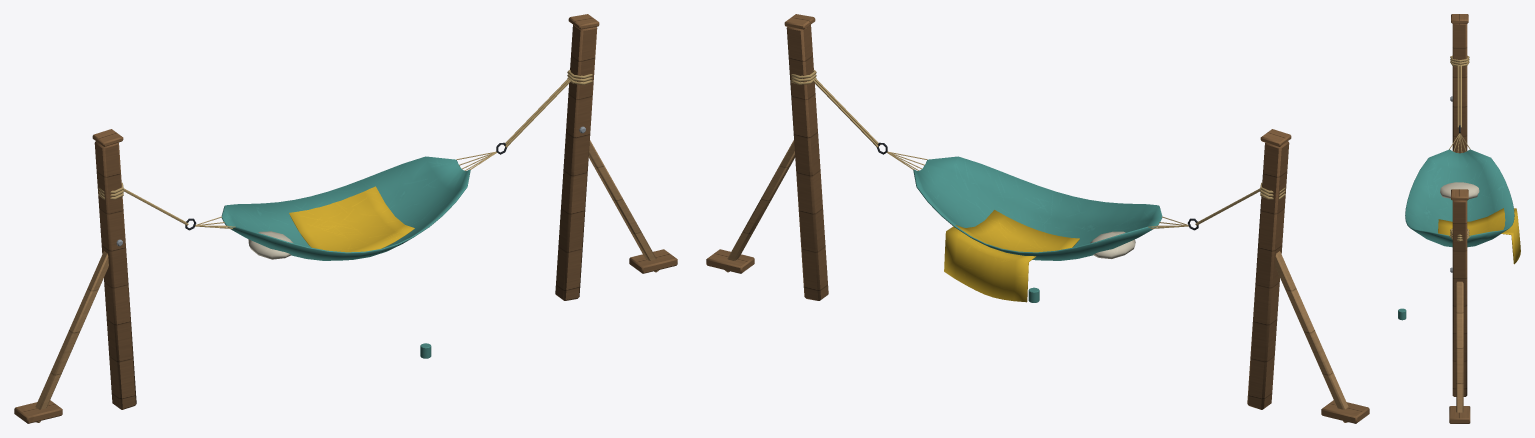
Rendered from hammock_posts.glb.
The picture shows the model from 3 angles, left to right: view 1: azimuth 30°, elevation 25°; view 2: azimuth 150°, elevation 25°; view 3: azimuth 270°, elevation 25°; orthographic projection. The views are drawn at different scales.
Parts seen in each view (by area): view 1: hammock_posts; view 2: hammock_posts; view 3: hammock_posts.
Boxes of the visible parts, x1,y1,x2,y2 form: hammock_posts: (14,14,677,423); hammock_posts: (706,14,1369,423); hammock_posts: (1398,14,1520,423).
Size of the model in its own units: 5.44 by 2.2 by 1.17.
Materials: 10 (10 with a texture image).
